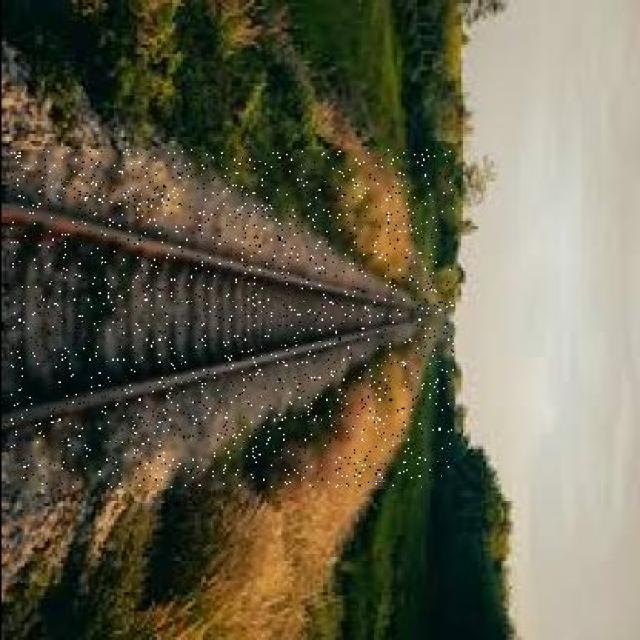rail: (9, 151, 451, 488)
